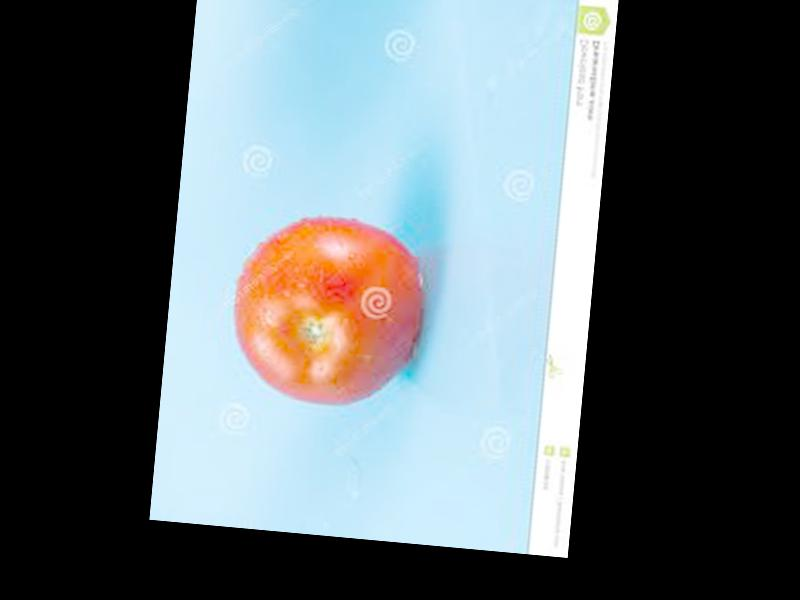Tomato: (226, 208, 427, 415)
